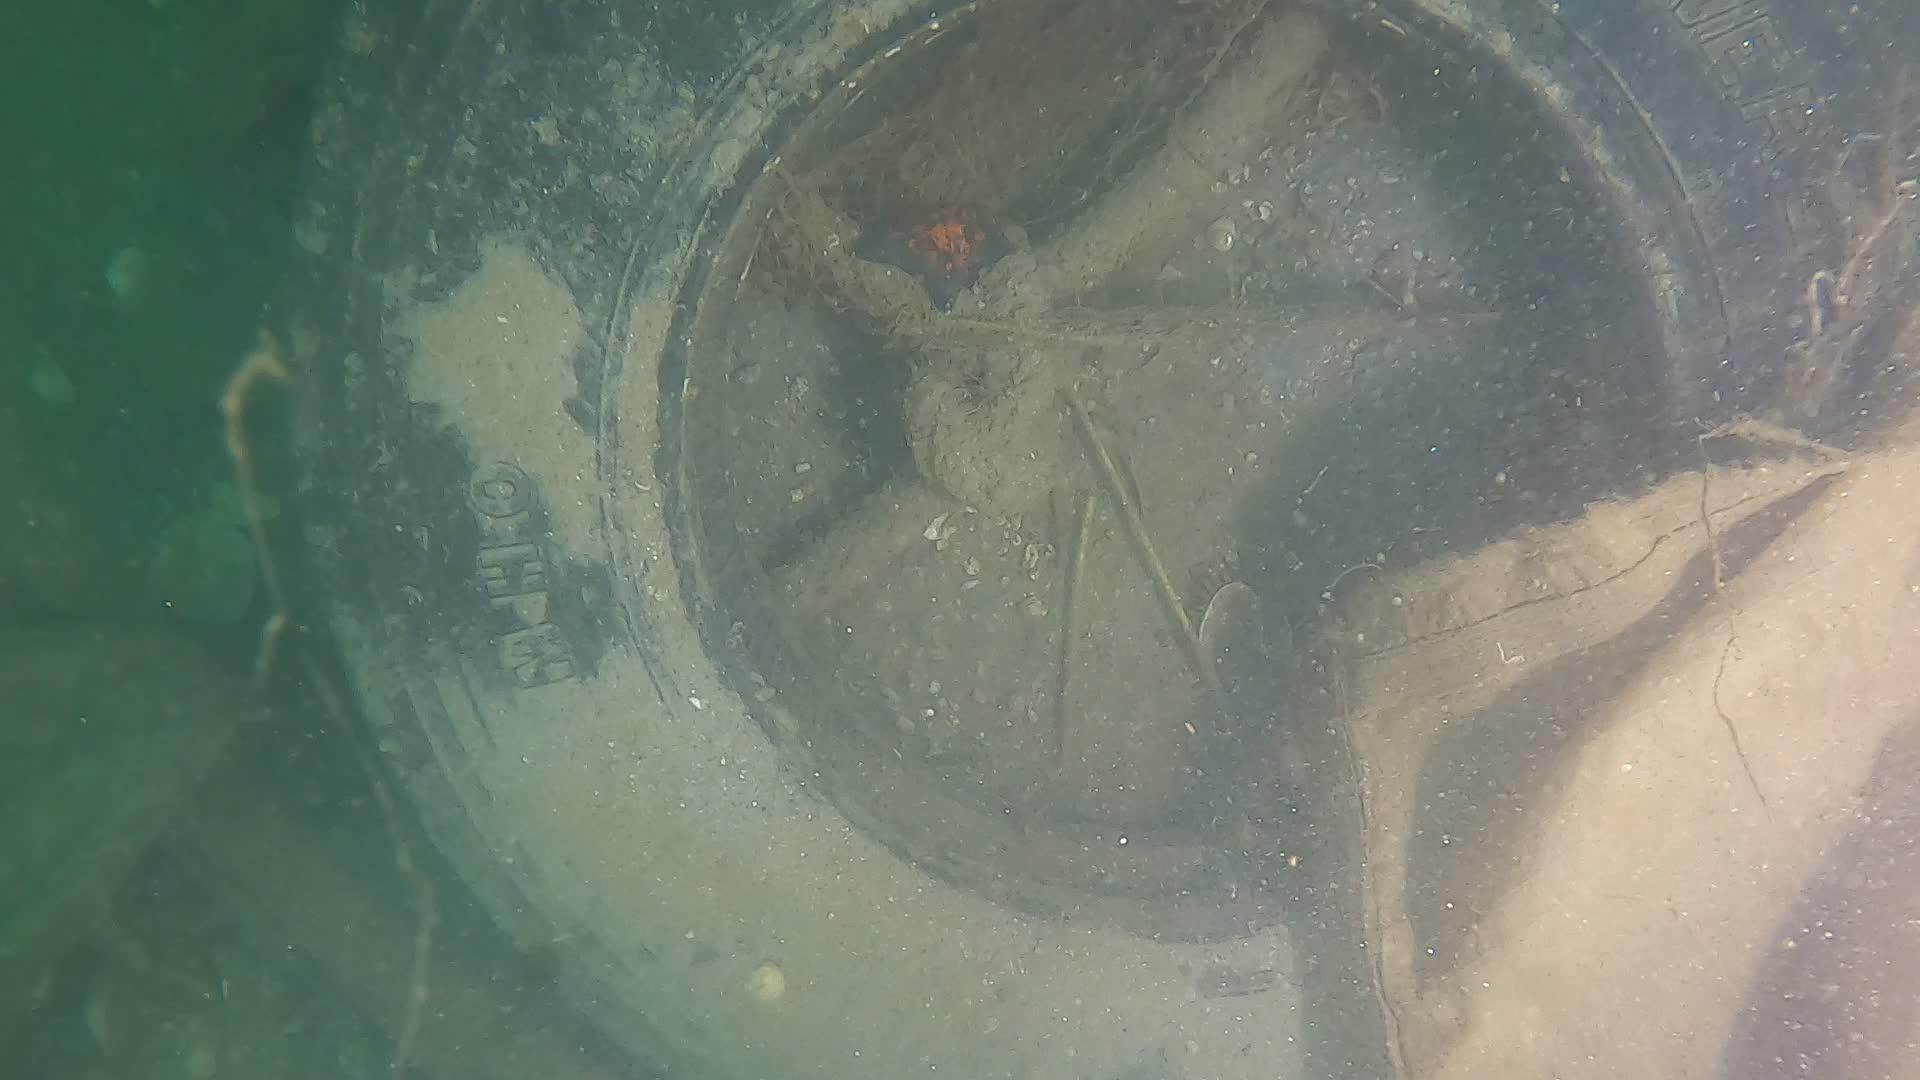rope: (647, 25, 1389, 637)
tire: (284, 0, 1920, 1080)
